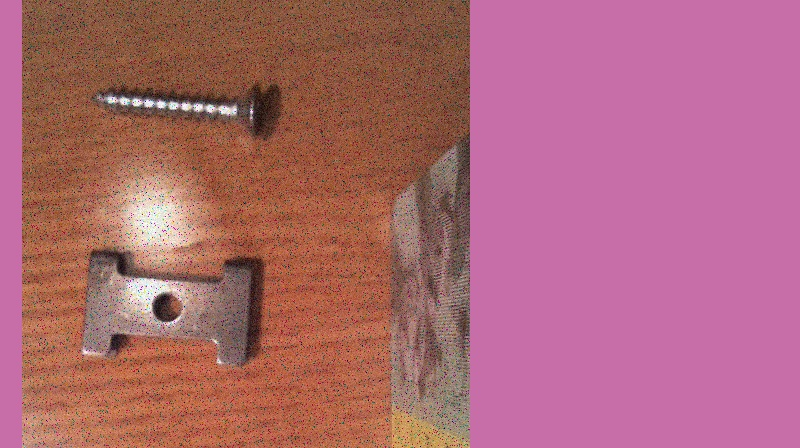O002: (80, 246, 261, 370)
S001: (88, 73, 270, 150)
